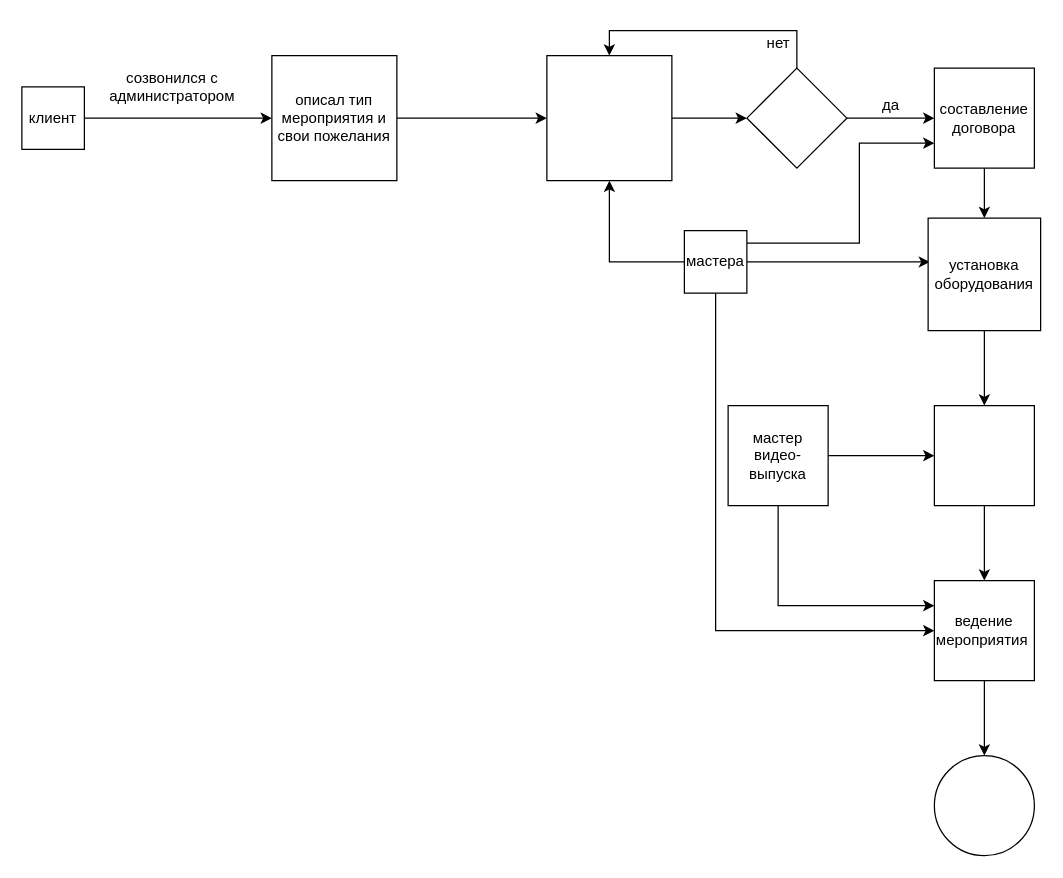
Some shapes in this 1063 by 878 pixel diagram are drawn without their labels. The box of each missing label's shape, as (x1, y1, x2, y2) in pixels:
осмотр помещения и составления списка оборудования: (546, 54, 672, 181)
получение прибыли: (933, 754, 1034, 856)
согласие клиента: (746, 67, 847, 168)
создание шоу: (933, 404, 1034, 506)
